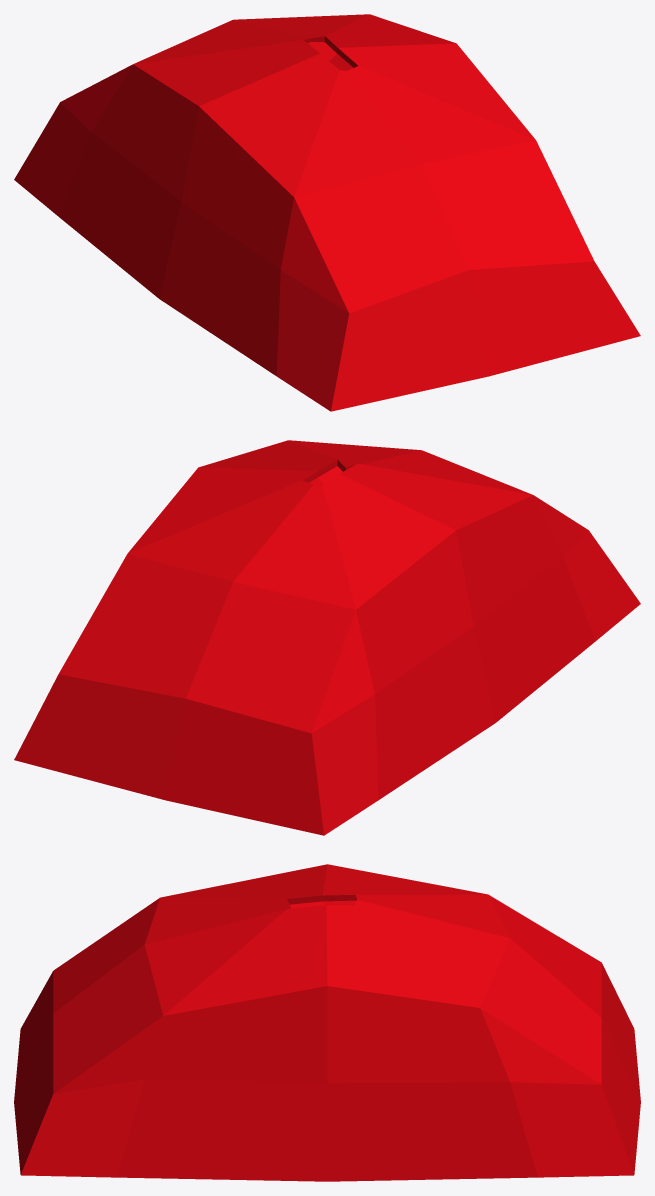
The model's file is Whale.fbx.
3 renders of one model, top to bottom at view 1: azimuth 30°, elevation 25°; view 2: azimuth 150°, elevation 25°; view 3: azimuth 270°, elevation 25°, orthographic. The views are drawn at different scales.
Visible parts, largest first — view 1: Cube; view 2: Cube; view 3: Cube.
Part boxes in pixels (x1,y1,x2,y2): Cube: [14, 14, 640, 411]; Cube: [14, 440, 640, 835]; Cube: [14, 864, 640, 1181].
Size of the model in its own units: 770 by 501 by 1283.
